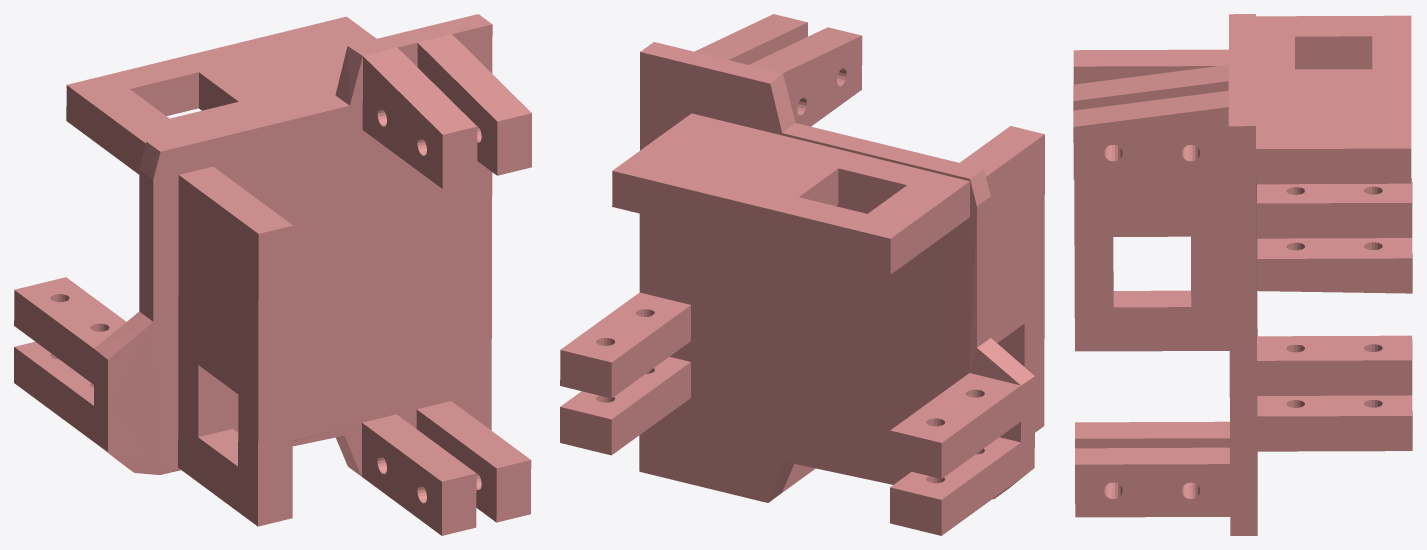
Rendered from Piece 11.obj.
The picture shows the model from 3 angles, left to right: view 1: azimuth 30°, elevation 25°; view 2: azimuth 150°, elevation 25°; view 3: azimuth 270°, elevation 25°; orthographic projection. The views are drawn at different scales.
Visible parts, largest first — view 1: Object.1; view 2: Object.1; view 3: Object.1.
Boxes of the visible parts, x1=… form: Object.1: x1=14, y1=14, x2=531, y2=535; Object.1: x1=560, y1=14, x2=1044, y2=535; Object.1: x1=1073, y1=14, x2=1412, y2=535.
Size of the model in its own units: 55.5 by 58.35 by 43.69.
